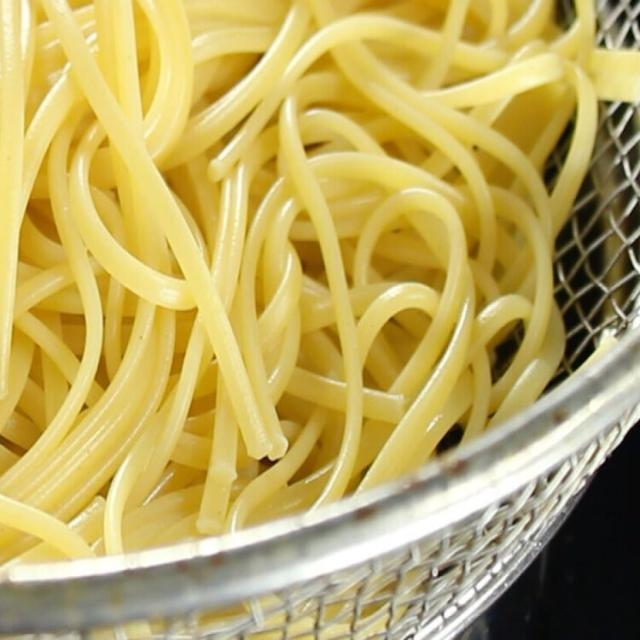pasta: (2, 3, 592, 560)
